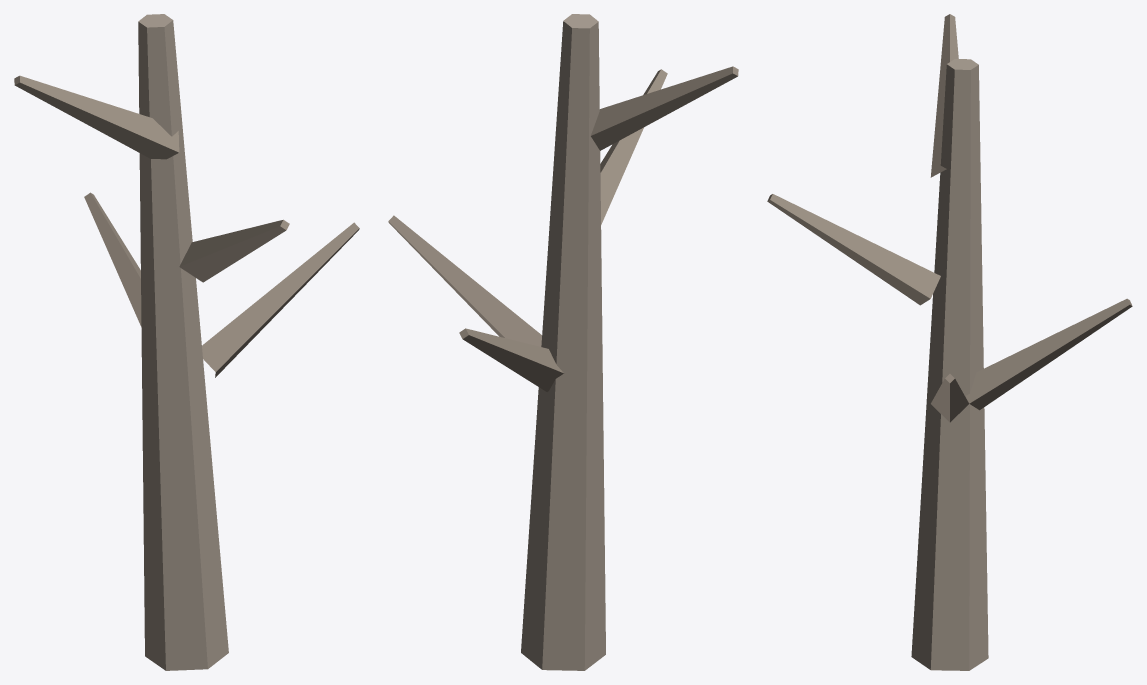
Rendered from deadtree_v21.glb.
3 views of the same model, side by side, from view 1: azimuth 30°, elevation 25°; view 2: azimuth 150°, elevation 25°; view 3: azimuth 270°, elevation 25° (orthographic). The views are drawn at different scales.
Visible parts, largest first — view 1: lod0; view 2: lod0; view 3: lod0.
Part boxes in pixels (x1,y1,x2,y2): lod0: (14, 14, 359, 670); lod0: (388, 14, 738, 670); lod0: (767, 14, 1132, 670).
Size of what is drawn, in the model's own units: 2.67 by 4.72 by 2.67.
